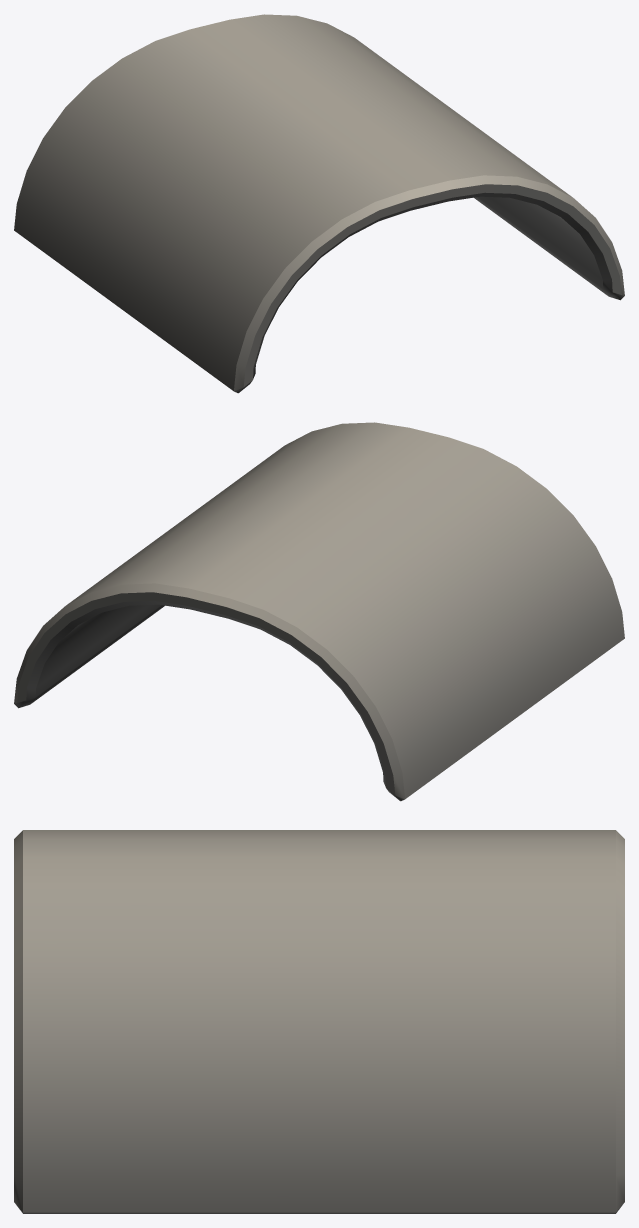
Rendered from Paddle.fbx.
3 views of the same model, one above another, from view 1: azimuth 30°, elevation 25°; view 2: azimuth 150°, elevation 25°; view 3: azimuth 270°, elevation 25° (orthographic). The views are drawn at different scales.
Visible parts, largest first — view 1: Paddle; view 2: Paddle; view 3: Paddle.
Part boxes in pixels (bbox=[...]): Paddle: bbox=[14, 14, 624, 393]; Paddle: bbox=[14, 422, 624, 801]; Paddle: bbox=[14, 830, 624, 1213].
Size of the model in its own units: 199 by 78.6 by 200.
